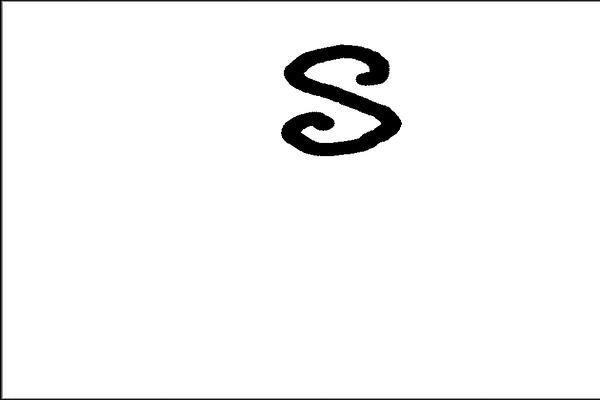S: (274, 38, 407, 160)
